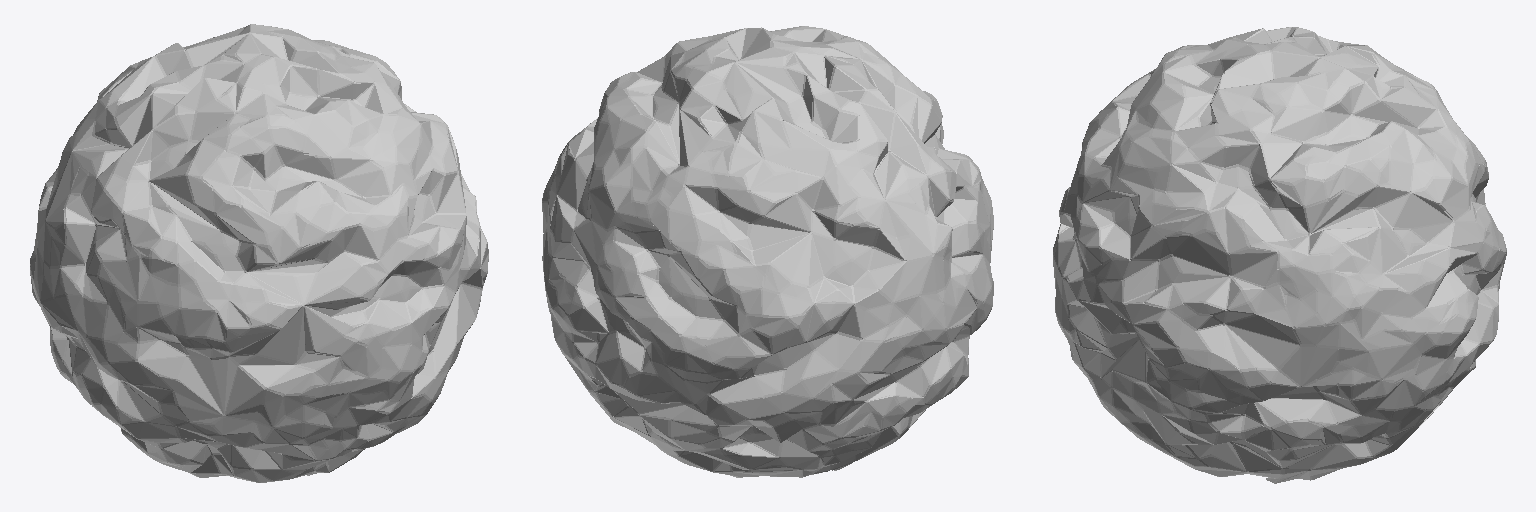
File: g3d_planetland.obj
3 renders of one model, left to right at view 1: azimuth 30°, elevation 25°; view 2: azimuth 150°, elevation 25°; view 3: azimuth 270°, elevation 25°, orthographic.
Size of the model in its own units: 50.39 by 50.29 by 50.36.